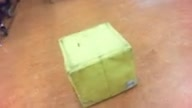cube: (58, 21, 138, 108)
